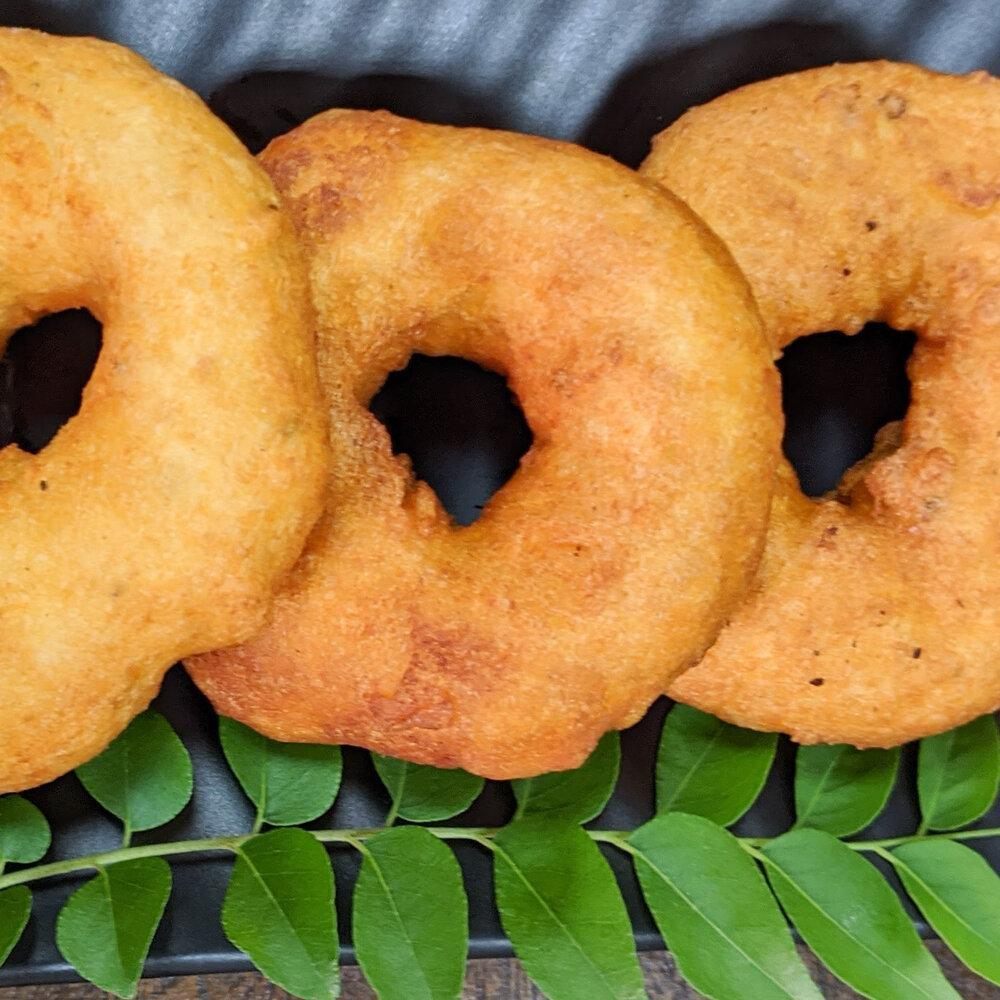mvada: (11, 134, 1000, 601)
